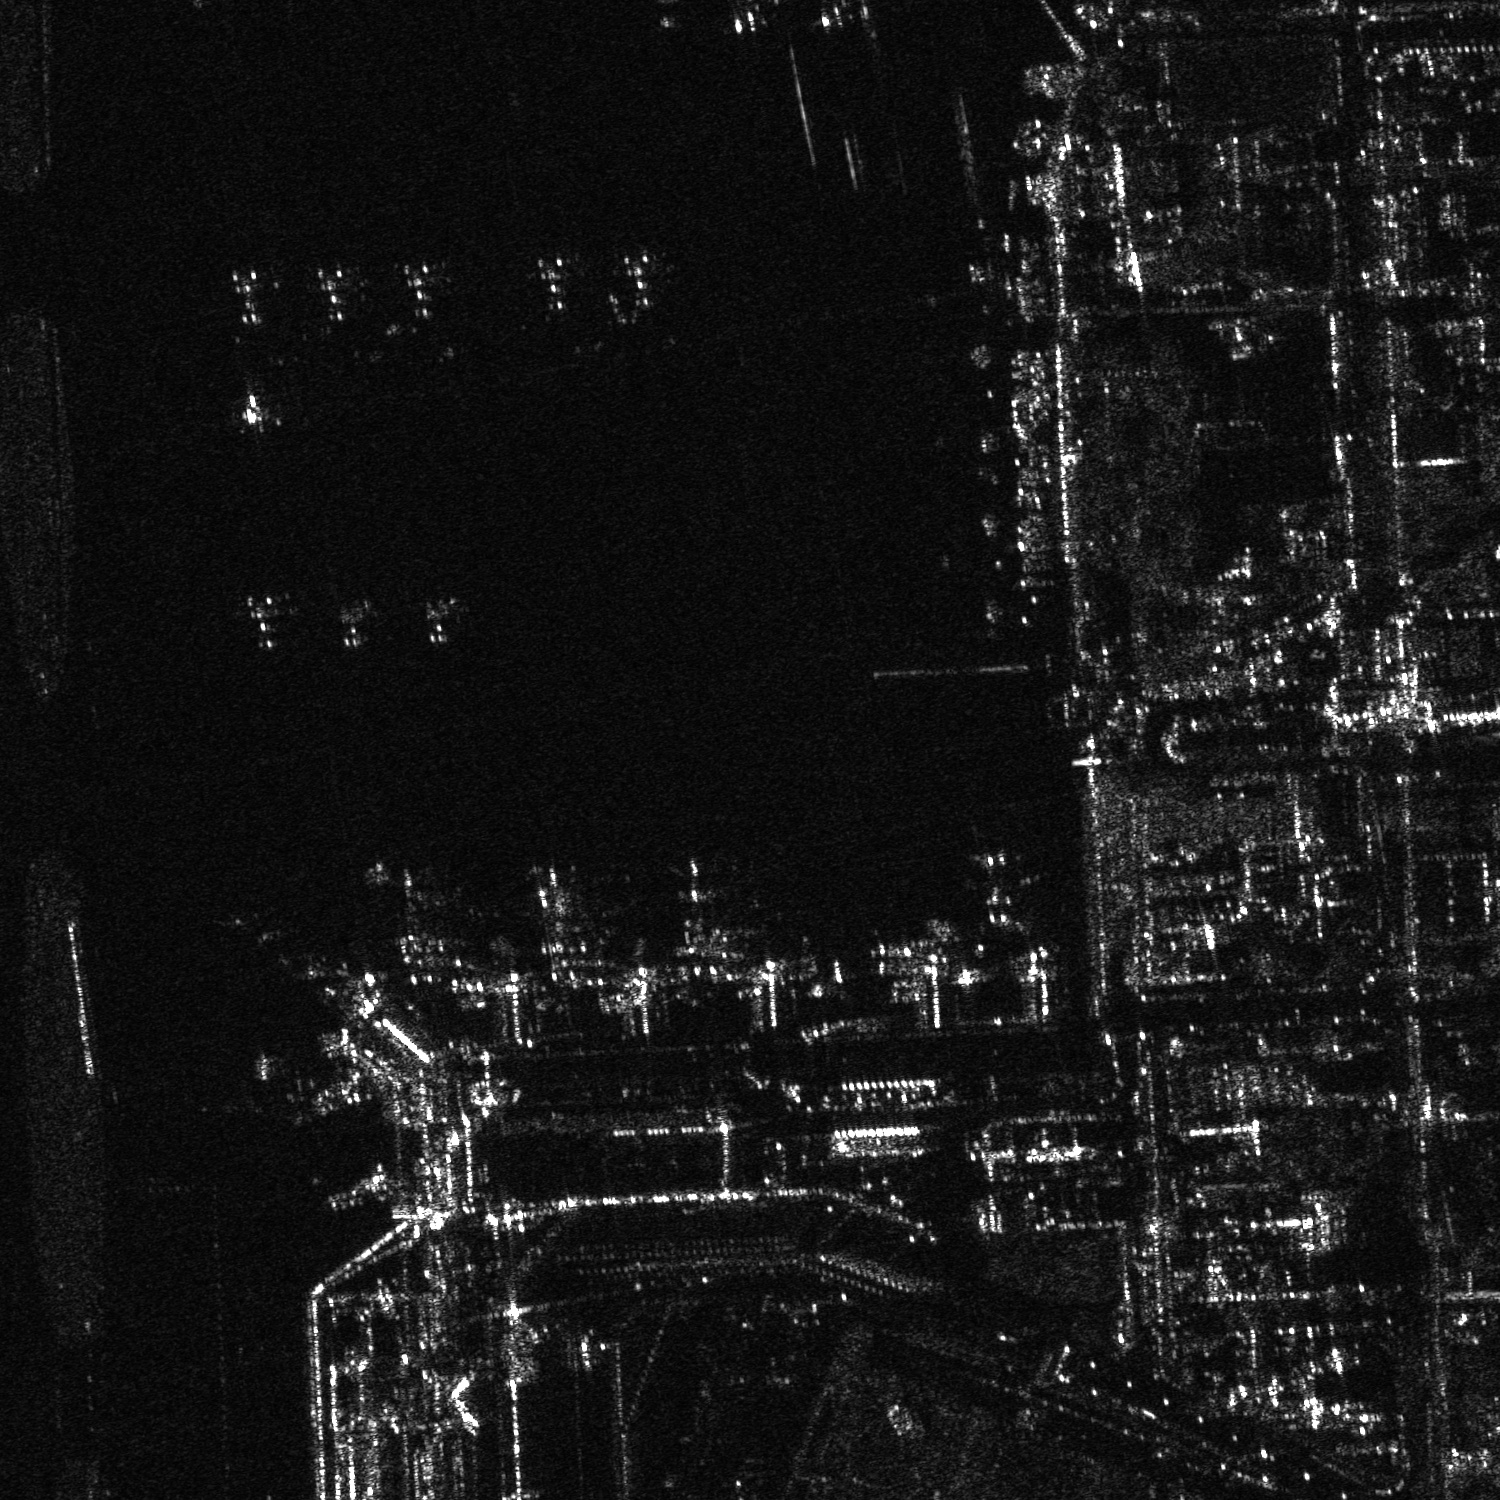A220: (946, 848, 1043, 937), (334, 598, 385, 651)
A320/321: (419, 593, 466, 648)
ARJ21: (229, 592, 299, 651), (221, 391, 287, 434)
Boeing787: (658, 853, 738, 966)
other: (518, 863, 598, 988), (368, 861, 449, 962), (297, 255, 379, 332), (602, 245, 681, 319), (387, 255, 466, 330), (212, 258, 286, 330), (523, 246, 585, 319)
